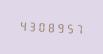eight: (44, 19, 52, 34)
five: (62, 20, 70, 35)
four: (17, 18, 25, 32)
nine: (53, 20, 61, 34)
seven: (71, 21, 79, 35)
three: (26, 18, 34, 33)
zero: (35, 19, 43, 33)
